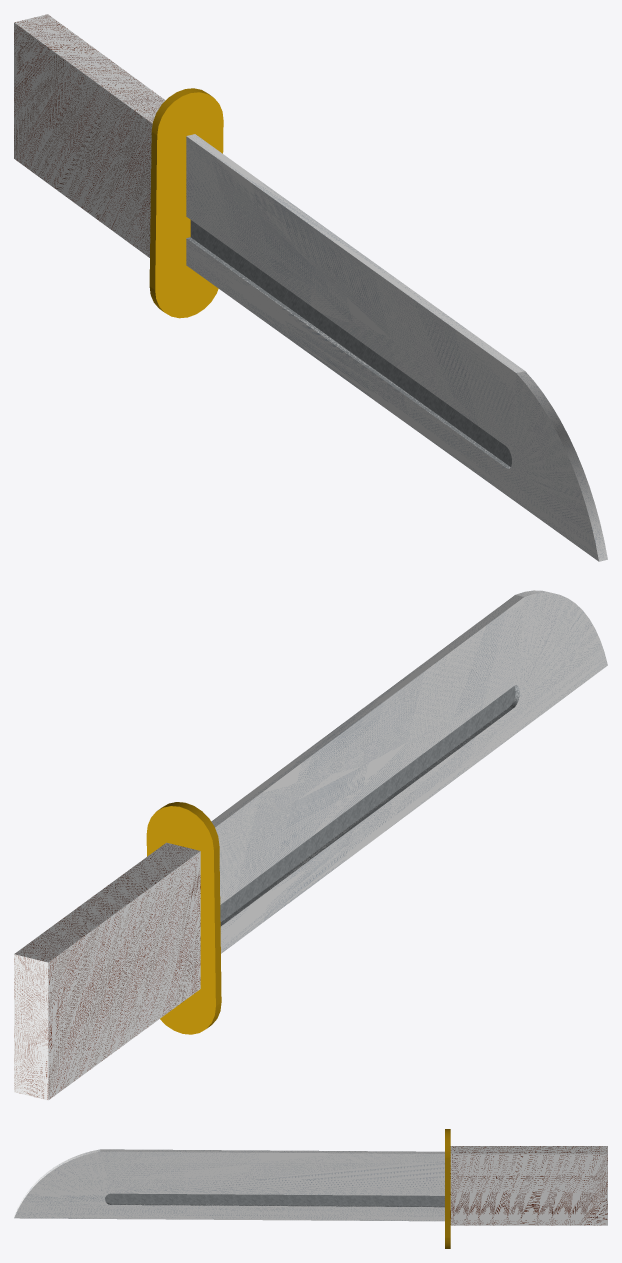
File: model_scale.obj
The picture shows the model from 3 angles, top to bottom: view 1: azimuth 30°, elevation 25°; view 2: azimuth 150°, elevation 25°; view 3: azimuth 270°, elevation 25°; orthographic projection. The views are drawn at different scales.
Visible parts, largest first — view 1: mesh1_mesh1-geometry, mesh5_mesh5-geometry, mesh3_mesh3-geometry; view 2: mesh1_mesh1-geometry, mesh5_mesh5-geometry, mesh3_mesh3-geometry; view 3: mesh1_mesh1-geometry, mesh5_mesh5-geometry, mesh3_mesh3-geometry.
Part boxes in pixels (left/top/right/bottom): mesh1_mesh1-geometry: left=186, top=134, right=607, bottom=561; mesh5_mesh5-geometry: left=14, top=14, right=165, bottom=257; mesh3_mesh3-geometry: left=149, top=88, right=223, bottom=318; mesh1_mesh1-geometry: left=211, top=590, right=607, bottom=953; mesh5_mesh5-geometry: left=14, top=842, right=200, bottom=1100; mesh3_mesh3-geometry: left=146, top=802, right=221, bottom=1034; mesh1_mesh1-geometry: left=14, top=1149, right=444, bottom=1221; mesh5_mesh5-geometry: left=450, top=1146, right=607, bottom=1225; mesh3_mesh3-geometry: left=445, top=1129, right=450, bottom=1248.
Size of the model in its own units: 0.0138 by 0.0432 by 0.199.
Materials: 8 (2 with a texture image).
